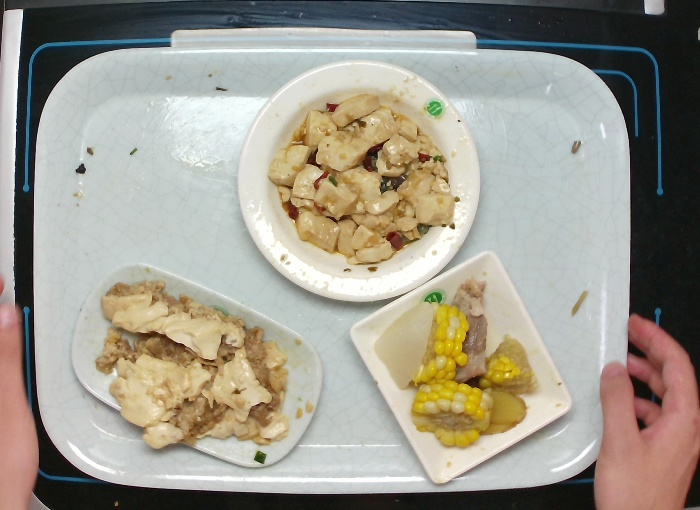WCQzf-Bai_Se_Si_Fang_Die: (345, 247, 575, 488)
WCQzf-Kuan_Bian_Yuan_Die: (231, 55, 485, 305)
WCQzf-Tuo_Yuan_Pan: (66, 258, 328, 472)
